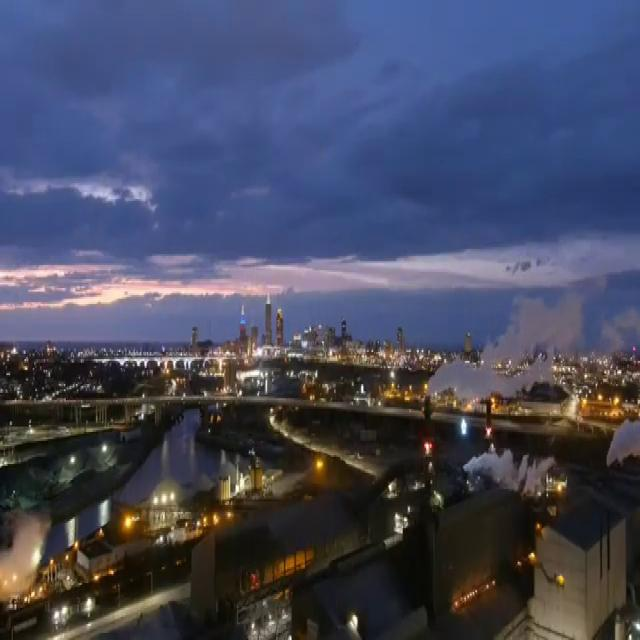smoke: (431, 299, 582, 400), (464, 434, 562, 500), (606, 404, 640, 464)
